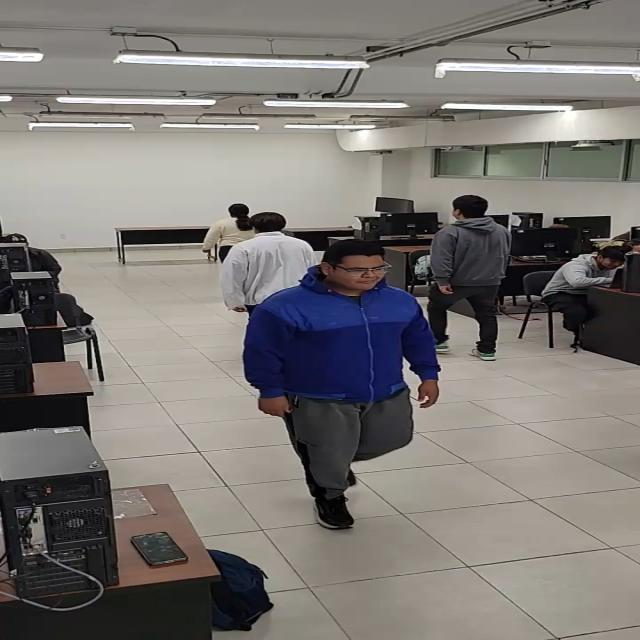Persona: (241, 238, 441, 531), (428, 194, 514, 362), (219, 211, 320, 319), (201, 202, 263, 263)
